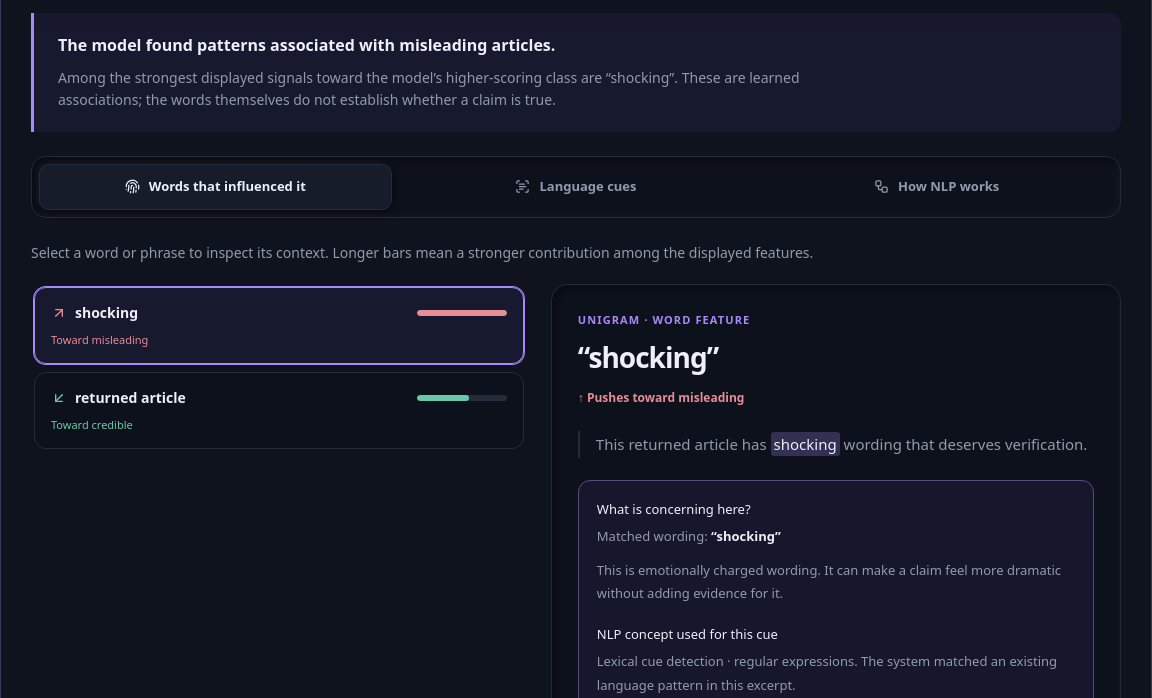
Scenario: explains actual feature direction, source context and independent language cues
The image size is (1152, 698).
(page scrolled)
Click the button "returned article Toward credible".
click(130, 398)  # box [34,372,524,449]
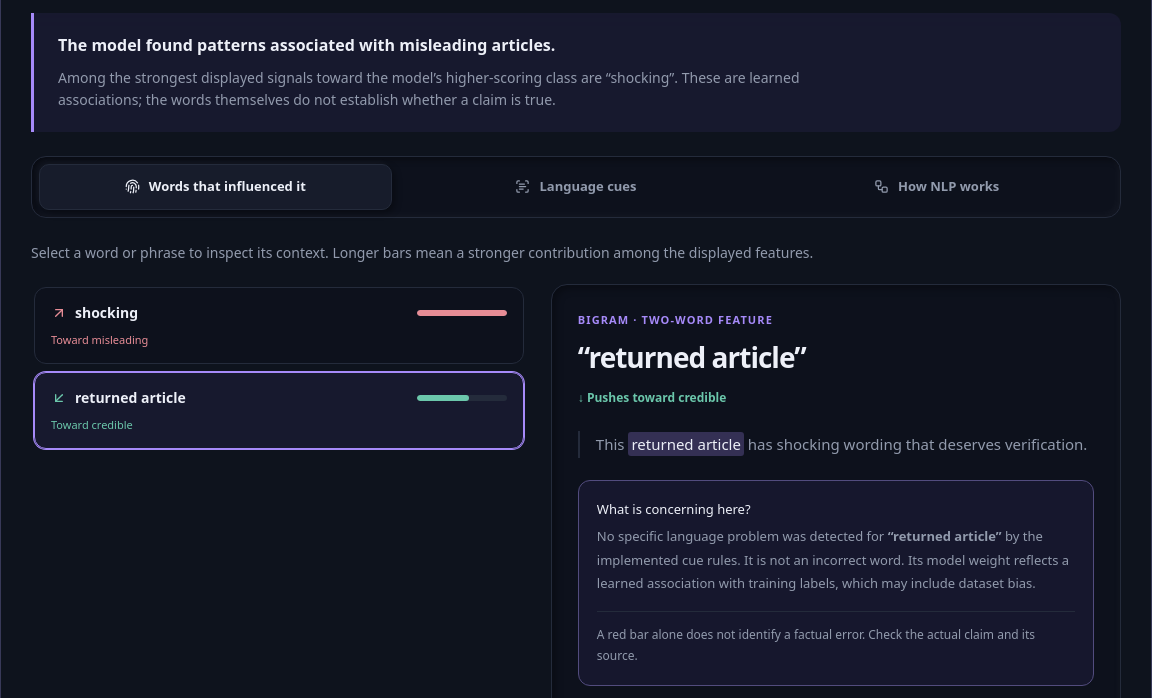
Result: the text "↓ Pushes toward credible" is shown at [578,388,726,407]
Result: the text "BIGRAM · TWO-WORD FEATURE" is shown at [578,312,773,327]
Result: the text "returned article" below "↓ Pushes toward credible" is shown at [631,434,741,454]
Click the button "Language cues".
click(576, 187)  # box [400,164,752,210]
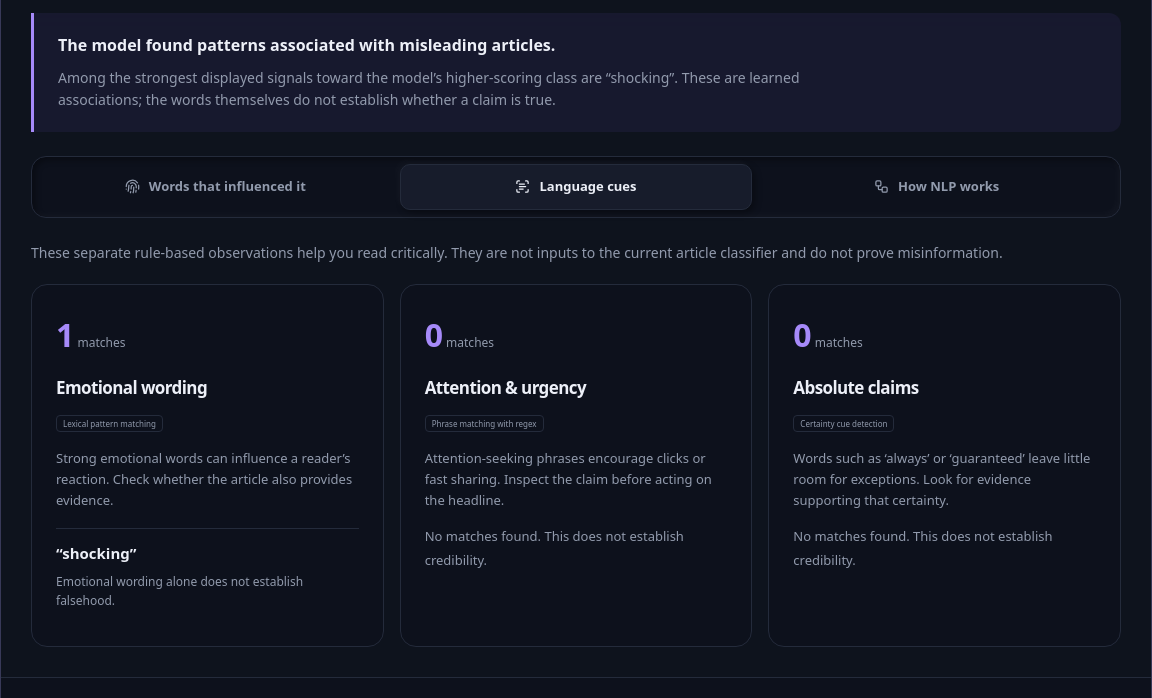
Result: the text "They are not inputs to the current article classifier" is shown at [31,243,1003,262]
Result: the text "No matches found. This does not establish credibility." is shown 2 times at [425,525,727,572]; [793,525,1096,572]
Click the button "How NLP works".
click(937, 187)  # box [760,164,1113,210]
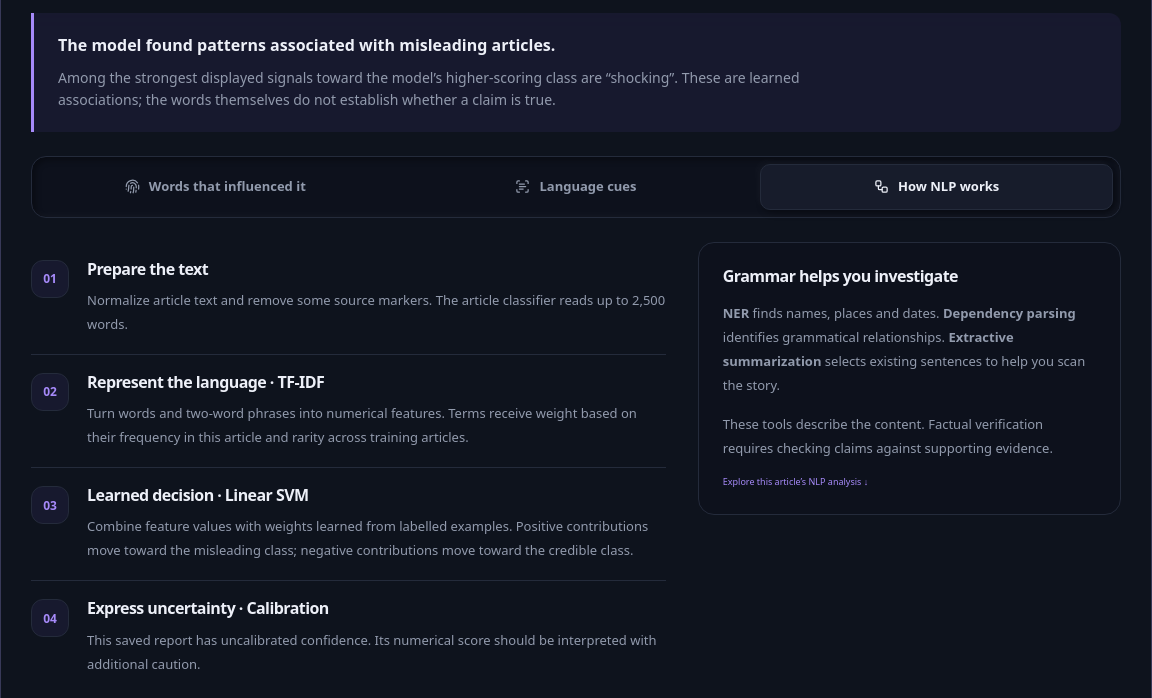
Result: the heading "Learned decision · Linear SVM" is shown at [87,484,308,506]
Result: the text "This saved report has uncalibrated confidence" is shown at [87,631,656,673]
